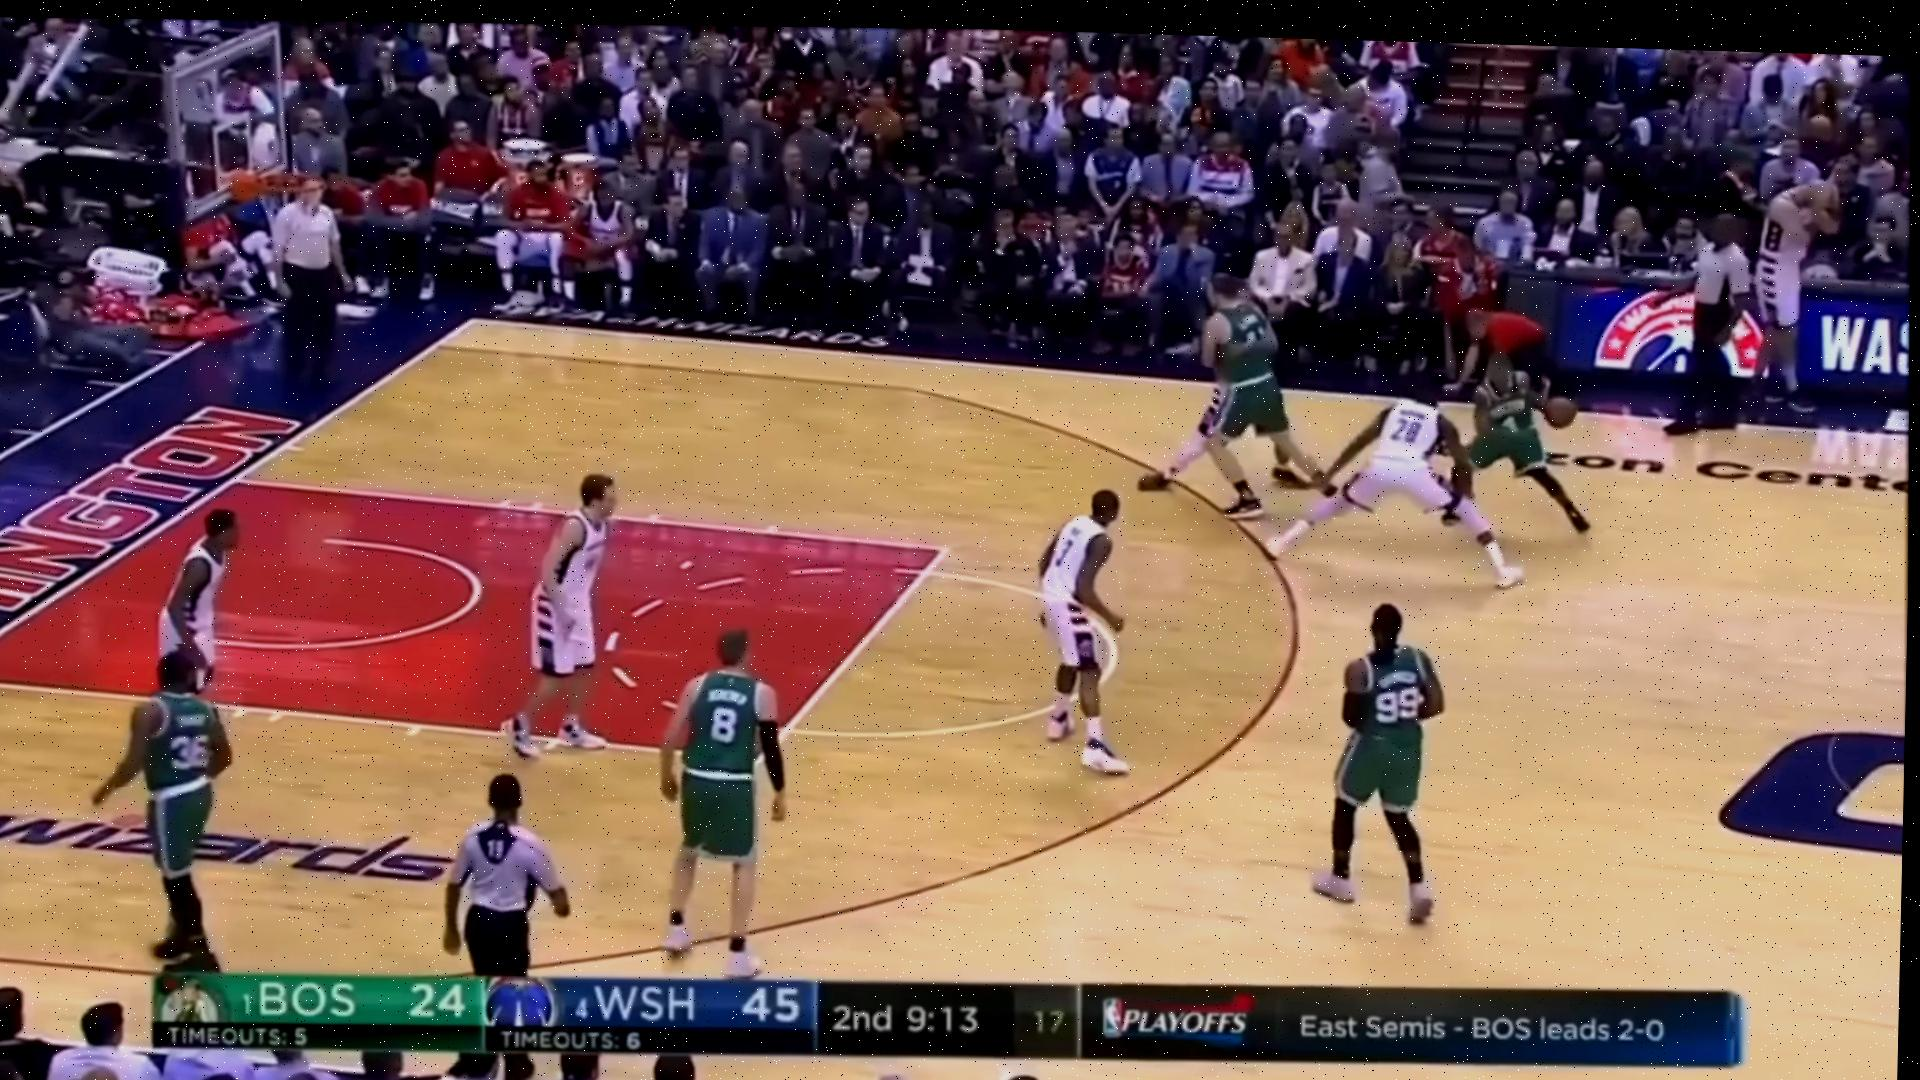foul: (1149, 264, 1336, 539)
